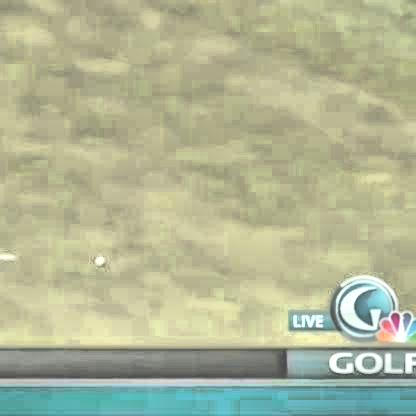golfball: (93, 252, 104, 265)
